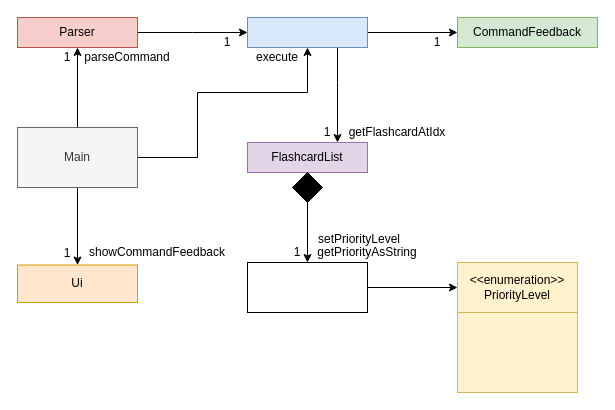
The diagram is 615 pixels wide and 410 high, and some of its shapes have lost their labels. The centre of each missing label's shape, as x and y in pixels:
"LOW, MEDIUM, HIGH, DEFAULT" goes at point 517,352.
"PriorityCommand" goes at point 307,32.
"{abstract} Flashcard" goes at point 307,287.
